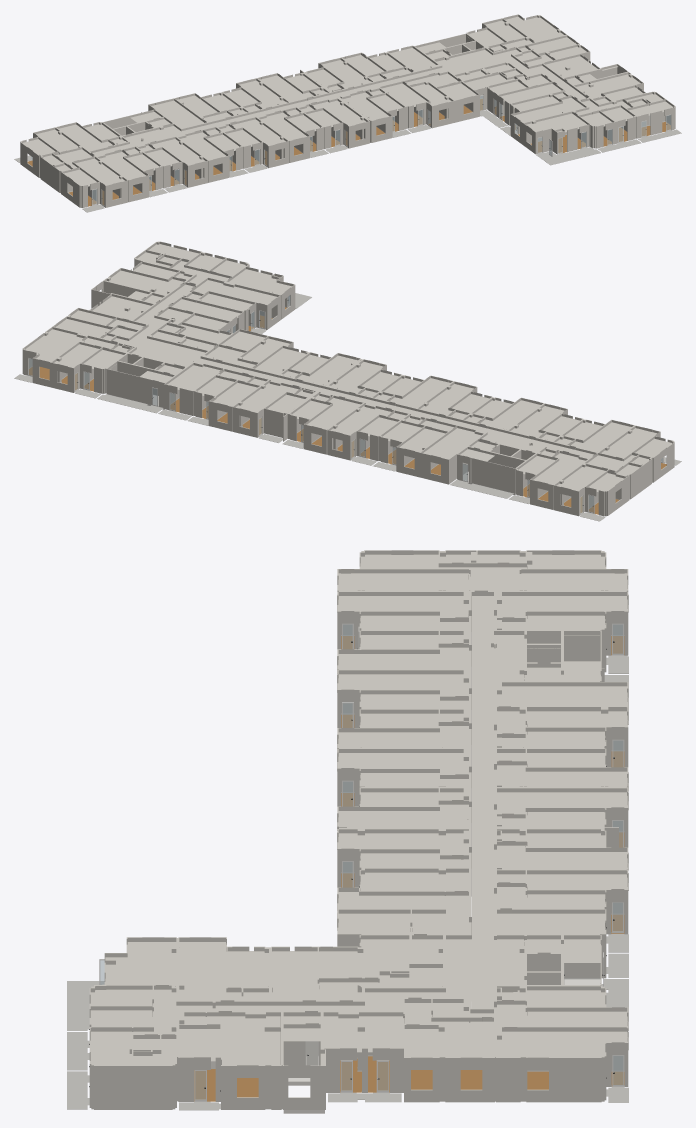
The picture shows the model from 3 angles, top to bottom: view 1: azimuth 30°, elevation 25°; view 2: azimuth 150°, elevation 25°; view 3: azimuth 270°, elevation 25°; orthographic projection. The views are drawn at different scales.
Visible parts, largest first — view 1: in_L10_walls__int_wall, in_L10_ceiling__int_wall, in_L10_u177_walls__int_wall, in_L10_u188_walls__int_wall, in_L10_u188_ceiling__int_wall, in_L10_u177_ceiling__int_wall, in_L10_u180_walls__int_wall, in_L10_u180_ceiling__int_wall, in_L10_u174_ceiling__int_wall, in_L10_u169_ceiling__int_wall, in_L10_u179_ceiling__int_wall, in_L10_u175_ceiling__int_wall (+32 smaller); view 2: in_L10_walls__int_wall, in_L10_ceiling__int_wall, in_L10_u188_walls__int_wall, in_L10_u188_ceiling__int_wall, in_L10_u177_ceiling__int_wall, in_L10_u174_walls__int_wall, in_L10_u180_ceiling__int_wall, in_L10_u174_ceiling__int_wall, in_L10_u169_ceiling__int_wall, in_L10_u169_walls__int_wall, in_L10_u179_ceiling__int_wall, in_L10_u175_ceiling__int_wall (+27 smaller); view 3: in_L10_walls__int_wall, in_L10_ceiling__int_wall, in_L10_u177_ceiling__int_wall, in_L10_u188_ceiling__int_wall, in_L10_u180_ceiling__int_wall, in_L10_u174_walls__int_wall, in_L10_u174_ceiling__int_wall, in_L10_u179_ceiling__int_wall, in_L10_u175_ceiling__int_wall, in_L10_u169_ceiling__int_wall, in_L10_u177_walls__int_wall, in_L10_u175_walls__int_wall (+37 smaller).
Part boxes in pixels (x1,y1,x2,y2): in_L10_walls__int_wall: [55, 33, 675, 207]; in_L10_ceiling__int_wall: [92, 37, 617, 155]; in_L10_u177_walls__int_wall: [523, 91, 675, 154]; in_L10_u188_walls__int_wall: [20, 127, 127, 207]; in_L10_u188_ceiling__int_wall: [23, 129, 124, 186]; in_L10_u177_ceiling__int_wall: [526, 94, 672, 132]; in_L10_u180_walls__int_wall: [378, 69, 488, 128]; in_L10_u180_ceiling__int_wall: [382, 70, 485, 106]; in_L10_u174_ceiling__int_wall: [469, 16, 563, 50]; in_L10_u169_ceiling__int_wall: [151, 95, 244, 127]; in_L10_u179_ceiling__int_wall: [465, 64, 561, 103]; in_L10_u175_ceiling__int_wall: [517, 37, 597, 77]; in_L10_walls__int_wall: [22, 259, 635, 515]; in_L10_ceiling__int_wall: [113, 284, 593, 461]; in_L10_u188_walls__int_wall: [554, 425, 674, 516]; in_L10_u188_ceiling__int_wall: [557, 428, 671, 491]; in_L10_u177_ceiling__int_wall: [137, 244, 291, 294]; in_L10_u174_walls__int_wall: [22, 327, 133, 393]; in_L10_u180_ceiling__int_wall: [182, 331, 305, 374]; in_L10_u174_ceiling__int_wall: [25, 329, 128, 368]; in_L10_u169_ceiling__int_wall: [383, 416, 481, 459]; in_L10_u169_walls__int_wall: [380, 414, 483, 484]; in_L10_u179_ceiling__int_wall: [152, 299, 240, 343]; in_L10_u175_ceiling__int_wall: [56, 296, 150, 339]; in_L10_walls__int_wall: [91, 551, 628, 1109]; in_L10_ceiling__int_wall: [215, 596, 600, 1065]; in_L10_u177_ceiling__int_wall: [90, 942, 212, 1065]; in_L10_u188_ceiling__int_wall: [338, 554, 627, 590]; in_L10_u180_ceiling__int_wall: [338, 872, 468, 962]; in_L10_u174_walls__int_wall: [497, 986, 628, 1102]; in_L10_u174_ceiling__int_wall: [497, 990, 627, 1057]; in_L10_u179_ceiling__int_wall: [272, 939, 442, 1000]; in_L10_u175_ceiling__int_wall: [323, 1003, 493, 1057]; in_L10_u169_ceiling__int_wall: [497, 686, 627, 747]; in_L10_u177_walls__int_wall: [89, 937, 180, 1109]; in_L10_u175_walls__int_wall: [328, 999, 497, 1102].
Size of the model in its own units: 82.77 by 3.6 by 38.1.
